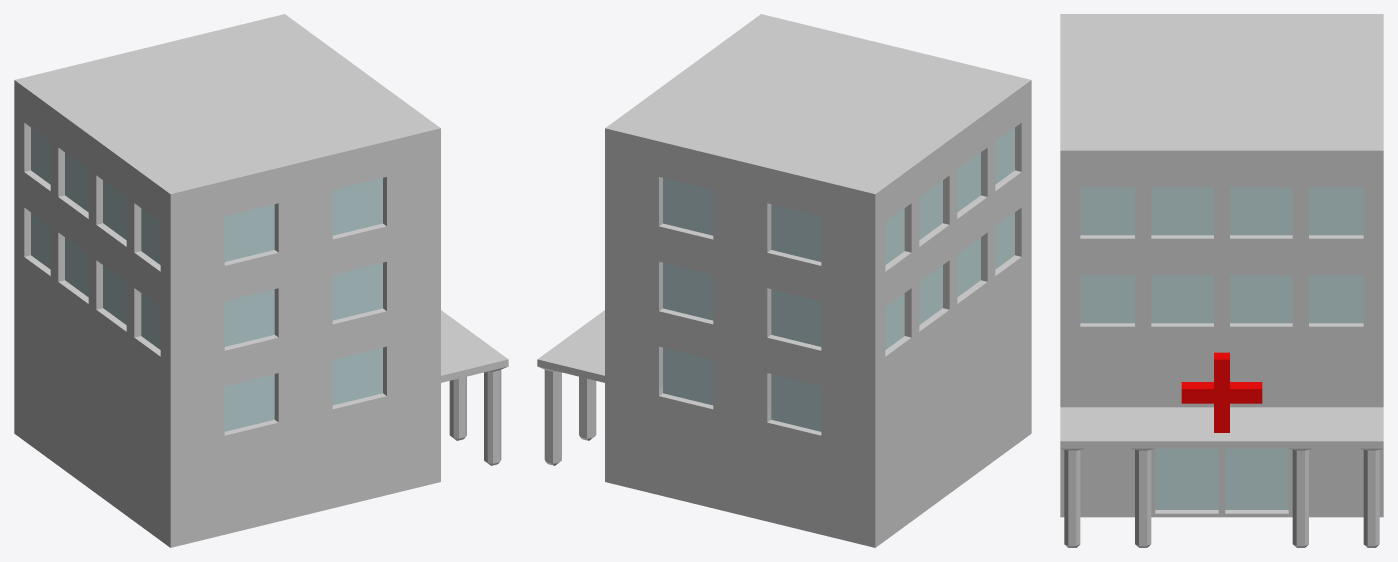
The model's file is Krankenhaus.fbx.
The picture shows the model from 3 angles, left to right: view 1: azimuth 30°, elevation 25°; view 2: azimuth 150°, elevation 25°; view 3: azimuth 270°, elevation 25°; orthographic projection. The views are drawn at different scales.
Parts seen in each view (by area): view 1: Cube; view 2: Cube; view 3: Cube.
Part boxes in pixels (x1=…): Cube: x1=14, y1=14, x2=508, y2=547; Cube: x1=537, y1=14, x2=1031, y2=547; Cube: x1=1060, y1=14, x2=1383, y2=547.
Size of the model in its own units: 100 by 100 by 80.
